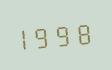eight: (75, 18, 93, 46)
nine: (56, 19, 74, 48), (37, 21, 55, 49)
one: (18, 23, 36, 51)
